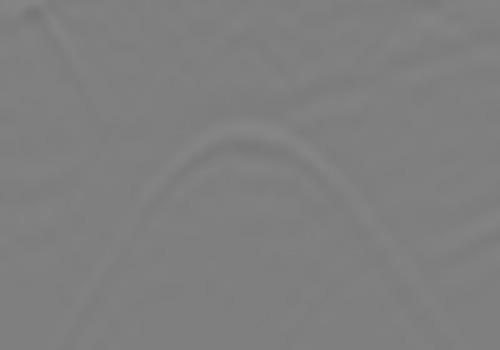hyperbola: (87, 117, 419, 323)
